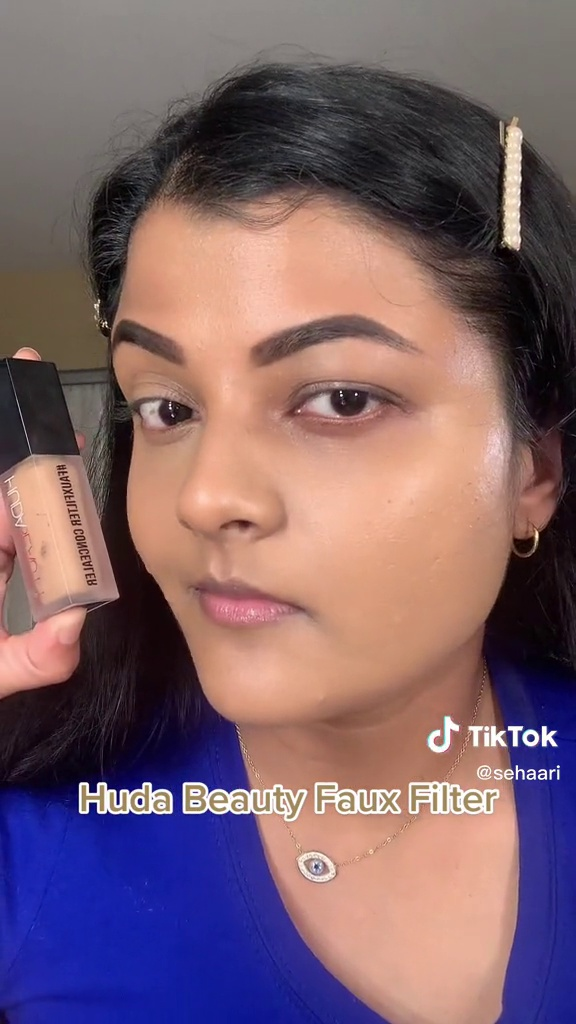train' :'yolo_data/train/images',: (1, 352, 131, 629)
